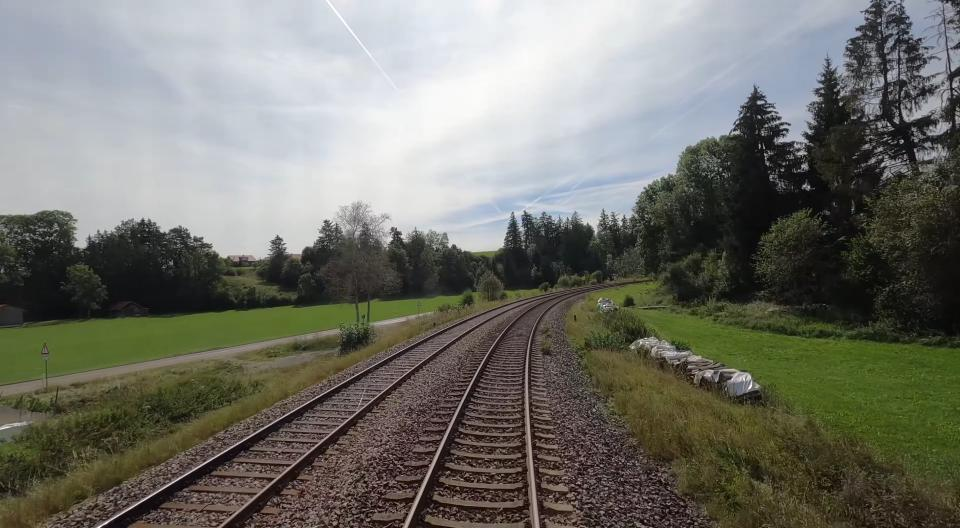Plant: (542, 339, 552, 354), (541, 325, 552, 338)
